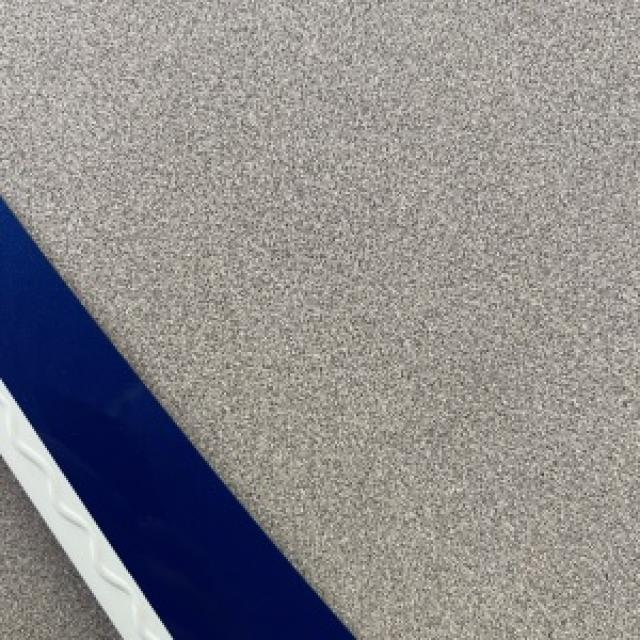healthy: (0, 0, 638, 638), (0, 198, 352, 638)
